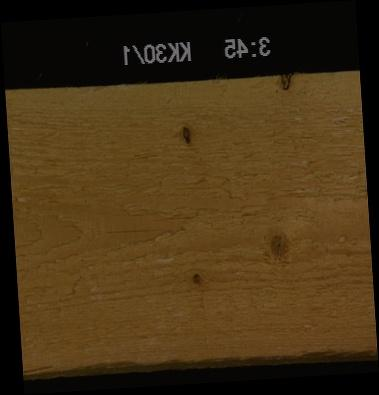dry_knot: (181, 124, 191, 144)
edge_knot: (277, 72, 293, 89)
small_knot: (191, 270, 203, 284)
sound_knot: (265, 228, 292, 264)
wave: (21, 344, 376, 369)
